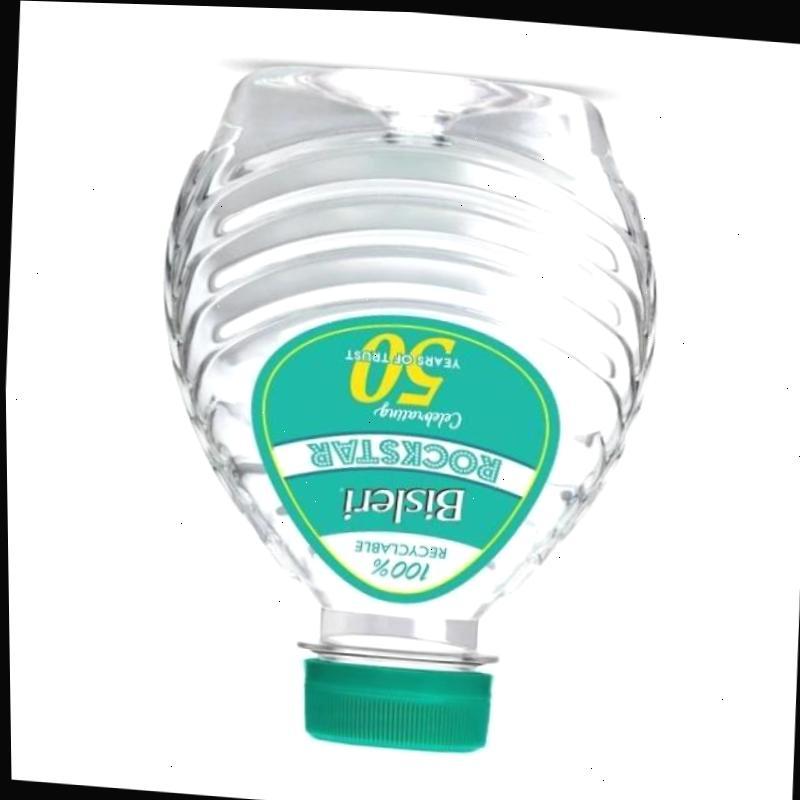botella: (130, 46, 673, 768)
